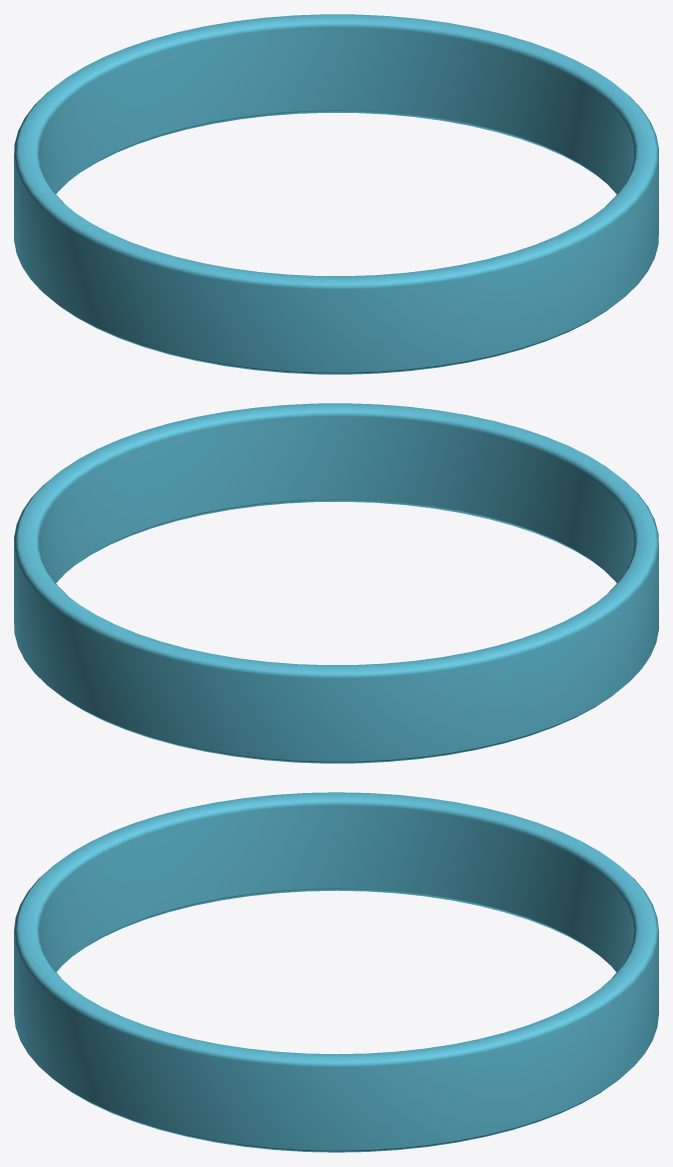
The picture shows the model from 3 angles, top to bottom: view 1: azimuth 30°, elevation 25°; view 2: azimuth 150°, elevation 25°; view 3: azimuth 270°, elevation 25°; orthographic projection.
Visible parts, largest first — view 1: seal_body; view 2: seal_body; view 3: seal_body.
Part boxes in pixels (x1=…): seal_body: x1=14, y1=14, x2=658, y2=374; seal_body: x1=14, y1=403, x2=658, y2=763; seal_body: x1=14, y1=792, x2=658, y2=1152.
Size of the model in its own units: 0.0635 by 0.01 by 0.0635.
